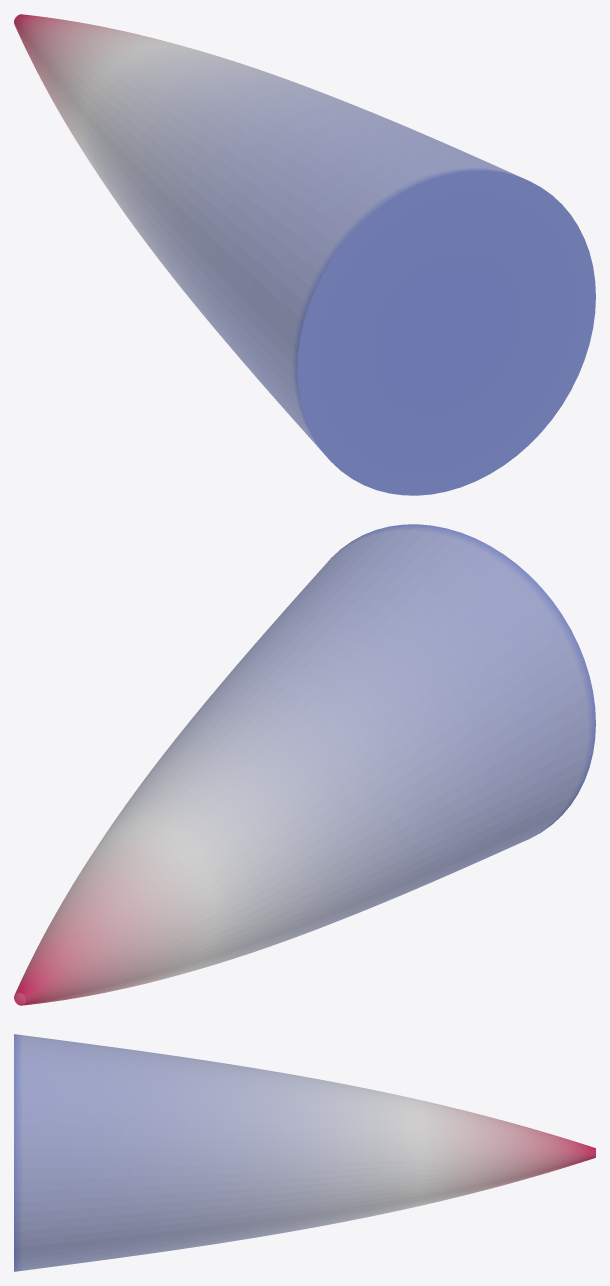
The model's file is frame_022_unlit.glb.
3 views of the same model, one above another, from view 1: azimuth 30°, elevation 25°; view 2: azimuth 150°, elevation 25°; view 3: azimuth 270°, elevation 25° (orthographic). The views are drawn at different scales.
Visible parts, largest first — view 1: geometry_0; view 2: geometry_0; view 3: geometry_0.
Boxes of the visible parts, x1,y1,x2,y2 form: geometry_0: (14,14,595,495); geometry_0: (14,524,595,1005); geometry_0: (14,1034,595,1271).
Bounding box in the file's own units: 0.4043 × 0.4099 × 1.
